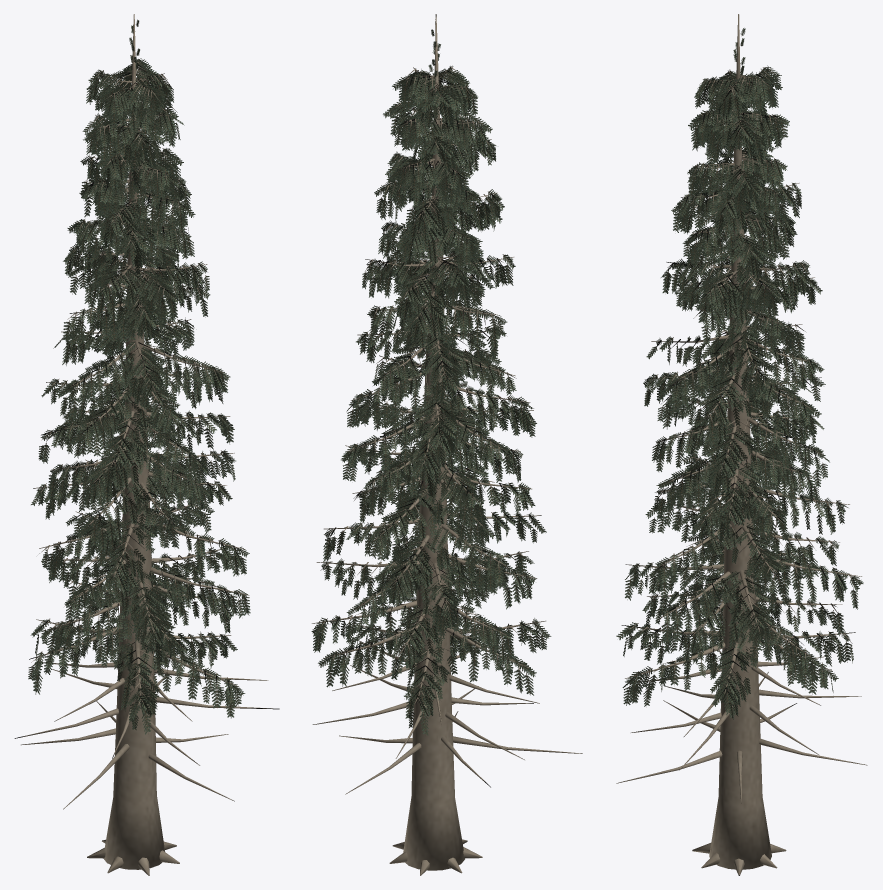
Rendered from Sitka_Mature_01_Unpruned_LOD1.fbx.
3 views of the same model, side by side, from view 1: azimuth 30°, elevation 25°; view 2: azimuth 150°, elevation 25°; view 3: azimuth 270°, elevation 25° (orthographic).
Visible parts, largest first — view 1: Sitka_Mature_01_Unpruned_LOD1; view 2: Sitka_Mature_01_Unpruned_LOD1; view 3: Sitka_Mature_01_Unpruned_LOD1.
Boxes of the visible parts, x1,y1,x2,y2 form: Sitka_Mature_01_Unpruned_LOD1: (14,14,279,875); Sitka_Mature_01_Unpruned_LOD1: (311,14,582,875); Sitka_Mature_01_Unpruned_LOD1: (616,14,867,875).
Size of the model in its own units: 781 by 2801 by 775.
Materials: 2 (2 with a texture image).
